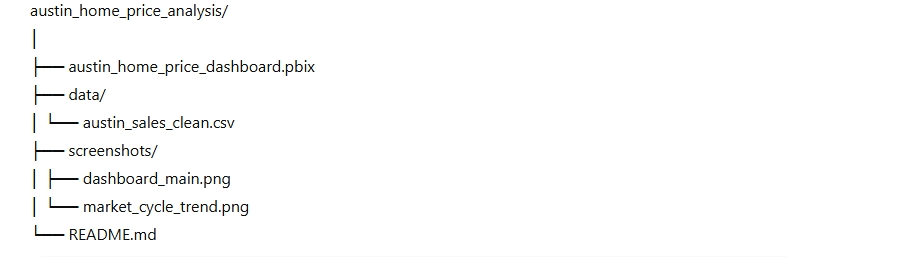

This screenshot's page, from the dashboard's own definition file:
{"tool":"powerbi","page":{"name":"Market Cycle Line Chart Visualization","canvas":[1280,720],"ordinal":0},"visuals":[{"type":"lineChart","fields":{"Y":["austin_sales.Median Price"],"Series":["austin_sales.Market Cycle"],"Category":["austin_sales.Month of Period End.Variation.Date Hierarchy.Year","austin_sales.Month of Period End.Variation.Date Hierarchy.Quarter","austin_sales.Month of Period End.Variation.Date Hierarchy.Month","austin_sales.Month of Period End.Variation.Date Hierarchy.Day"]},"box":[0,243,714.2,477.8],"z":0},{"type":"card","fields":{"Values":["austin_sales.Latest Market Stage"]},"box":[0,10.2,452.2,228.3],"z":1000},{"type":"card","fields":{"Values":["austin_sales.Latest Median Price"]},"box":[451.7,10,381.7,228.3],"z":2000},{"type":"card","fields":{"Values":["austin_sales.Latest YoY %"]},"box":[833.3,10,268.3,228.3],"z":3000},{"type":"areaChart","fields":{"Category":["austin_sales.Month of Period End.Variation.Date Hierarchy.Year","austin_sales.Month of Period End.Variation.Date Hierarchy.Quarter","austin_sales.Month of Period End.Variation.Date Hierarchy.Month","austin_sales.Month of Period End.Variation.Date Hierarchy.Day"],"Y":["Sum(austin_sales.Inventory)"]},"box":[714.1,244.4,305.9,475.6],"z":4000},{"type":"clusteredColumnChart","title":"Homes Sold Over Time","fields":{"Category":["austin_sales.Month of Period End.Variation.Date Hierarchy.Year","austin_sales.Month of Period End.Variation.Date Hierarchy.Quarter","austin_sales.Month of Period End.Variation.Date Hierarchy.Month","austin_sales.Month of Period End.Variation.Date Hierarchy.Day"],"Y":["Sum(austin_sales.Homes Sold)"]},"box":[1020.3,243.5,259.4,476.8],"z":5000},{"type":"slicer","title":"Period (Month)","fields":{"Values":["austin_sales.Month of Period End"]},"box":[1102,10.2,178.5,228.3],"z":6000}]}

Visuals, with their boxes on the page's 1280x720 design canvas (x1, y1, x2, y2). These are canvas units, not pixel positions in the 900x257 screenshot, which may show the page scaled, cropped or inside an application window:
lineChart - austin_sales.Median Price x austin_sales.Market Cycle: <bbox>0, 243, 714, 721</bbox>
card - austin_sales.Latest Market Stage: <bbox>0, 10, 452, 238</bbox>
card - austin_sales.Latest Median Price: <bbox>452, 10, 833, 238</bbox>
card - austin_sales.Latest YoY %: <bbox>833, 10, 1102, 238</bbox>
areaChart - austin_sales.Month of Period End.Variation.Date Hierarchy.Year x austin_sales.Month of Period End.Variation.Date Hierarchy.Quarter: <bbox>714, 244, 1020, 720</bbox>
"Homes Sold Over Time" clusteredColumnChart: <bbox>1020, 244, 1280, 720</bbox>
"Period (Month)" slicer: <bbox>1102, 10, 1280, 238</bbox>
